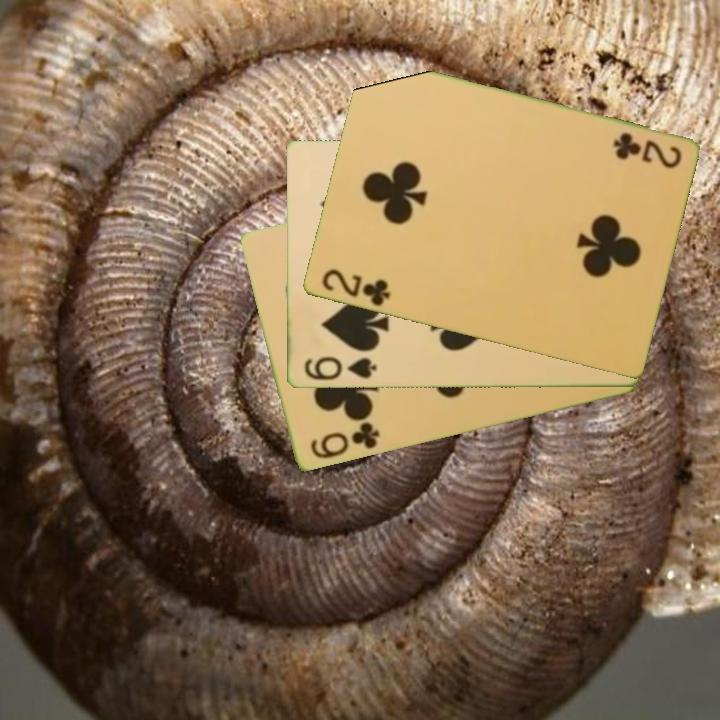2c: (318, 265, 393, 310), (609, 129, 684, 172)
6c: (306, 419, 383, 463)
6s: (300, 354, 379, 384)
